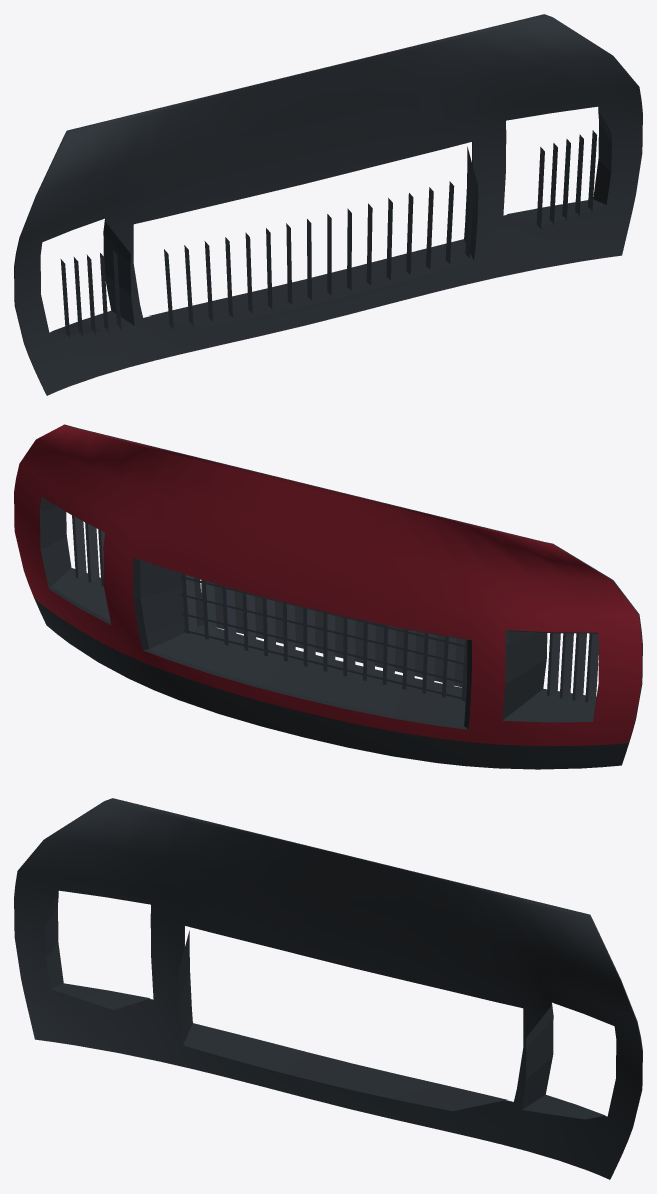
The model's file is fascia_lod1.gltf.
The picture shows the model from 3 angles, top to bottom: view 1: azimuth 30°, elevation 25°; view 2: azimuth 150°, elevation 25°; view 3: azimuth 330°, elevation 25°; orthographic projection.
Parts seen in each view (by area): view 1: BumperCover, DuctReturns, GrilleAndCore; view 2: BumperCover, DuctReturns, GrilleAndCore; view 3: BumperCover, DuctReturns.
Part boxes in pixels (x1,y1,x2,y2): BumperCover: (14,14,642,395); DuctReturns: (51,110,611,335); GrilleAndCore: (60,130,597,338); BumperCover: (14,424,642,769); DuctReturns: (40,497,598,729); GrilleAndCore: (72,515,598,702); BumperCover: (14,798,642,1179); DuctReturns: (45,894,605,1119).
Size of the model in its own units: 2.06 by 0.794 by 0.2409.
